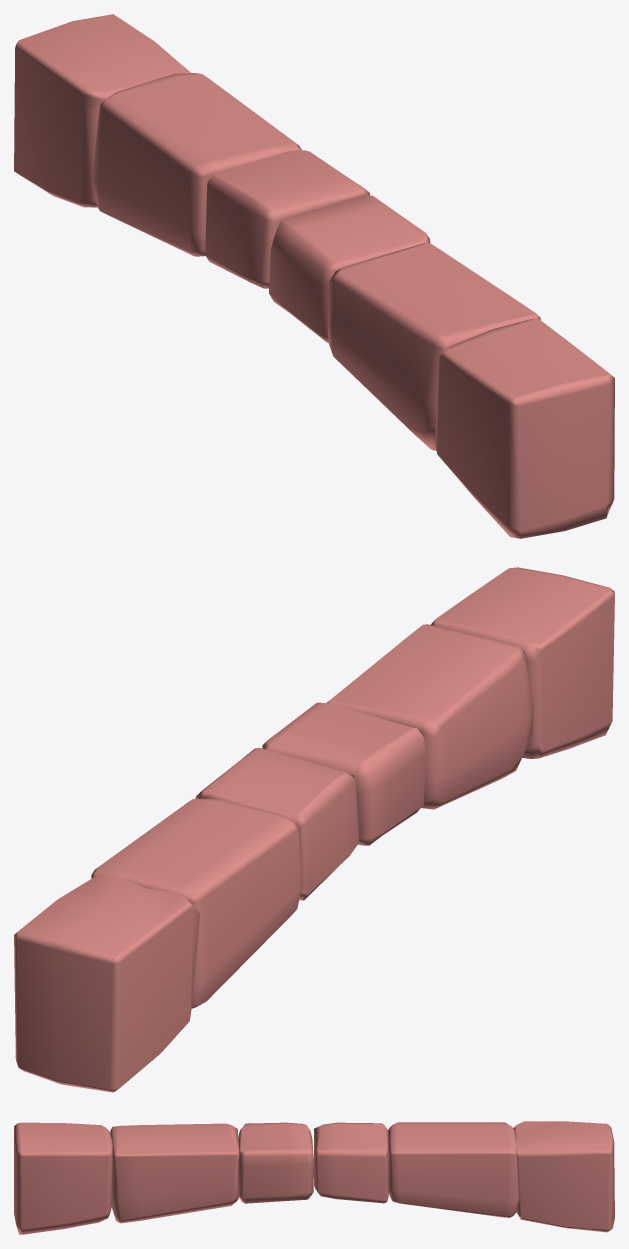
File: Fireplace_01B_Lod0.fbx
3 renders of one model, top to bottom at view 1: azimuth 30°, elevation 25°; view 2: azimuth 150°, elevation 25°; view 3: azimuth 270°, elevation 25°, orthographic. The views are drawn at different scales.
Parts seen in each view (by area): view 1: Fireplace_01B_Lod0; view 2: Fireplace_01B_Lod0; view 3: Fireplace_01B_Lod0.
Boxes of the visible parts, left/top/right/bottom form: Fireplace_01B_Lod0: left=14, top=14, right=614, bottom=538; Fireplace_01B_Lod0: left=14, top=567, right=614, bottom=1092; Fireplace_01B_Lod0: left=14, top=1121, right=614, bottom=1234.
Size of the model in its own units: 38.47 by 45.5 by 282.
